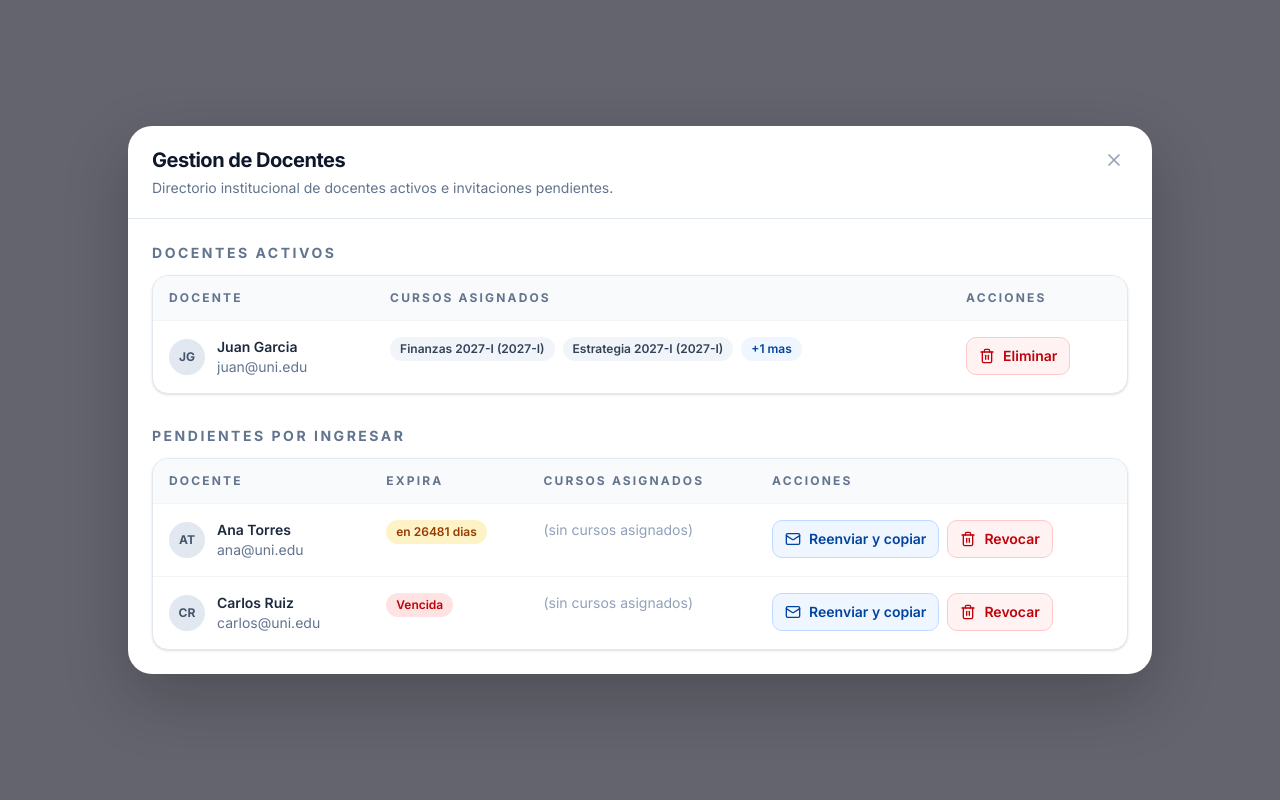
Test: TeacherDirectoryModal › shows resend errors
The width and height of the screenshot is (1280, 800).
expect the text "Ana Torres" is shown: met, box [217,520,304,540]
Click the button "Reenviar y copiar" in the row of "Ana Torres" at (856, 539), box [772,520,939,558]
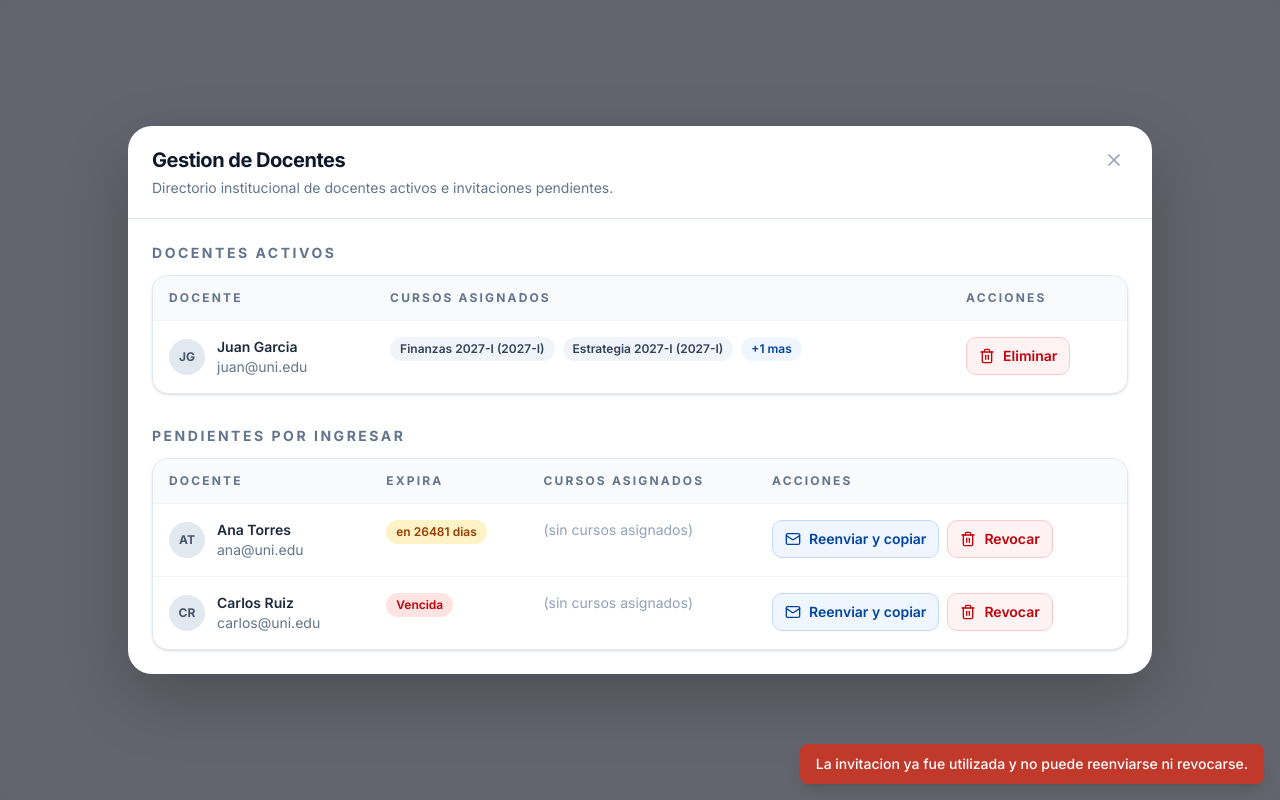
expect the message reads "La invitacion ya fue utilizada y no puede reenviarse ni revocarse.": met, box [816,755,1248,772]
